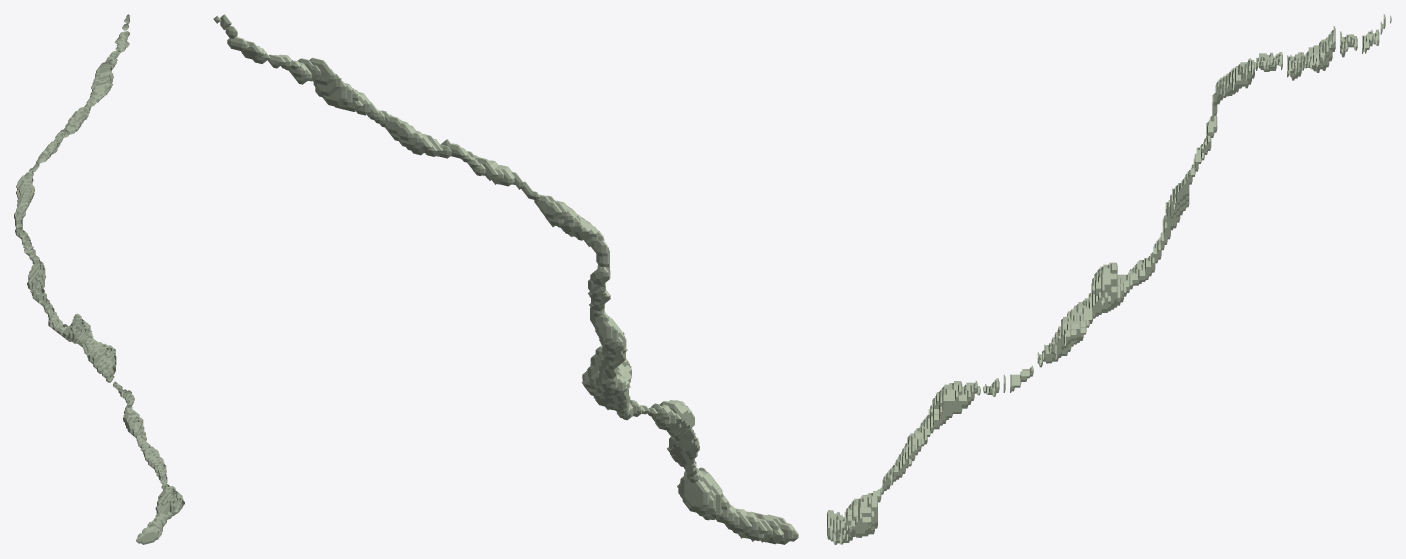
The model's file is SVV_RID.gltf.
3 views of the same model, side by side, from view 1: azimuth 30°, elevation 25°; view 2: azimuth 150°, elevation 25°; view 3: azimuth 270°, elevation 25° (orthographic). The views are drawn at different scales.
Visible parts, largest first — view 1: RID; view 2: RID; view 3: RID.
Boxes of the visible parts, x1,y1,x2,y2 form: RID: (14, 14, 184, 544); RID: (213, 14, 798, 544); RID: (827, 14, 1391, 544).
Size of the model in its own units: 40458 by 87084 by 69684.
